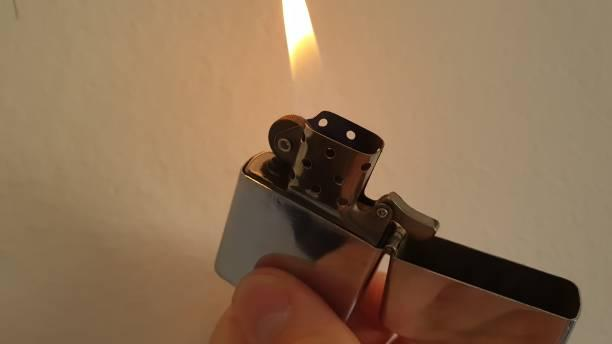Fire: (280, 1, 333, 114)
